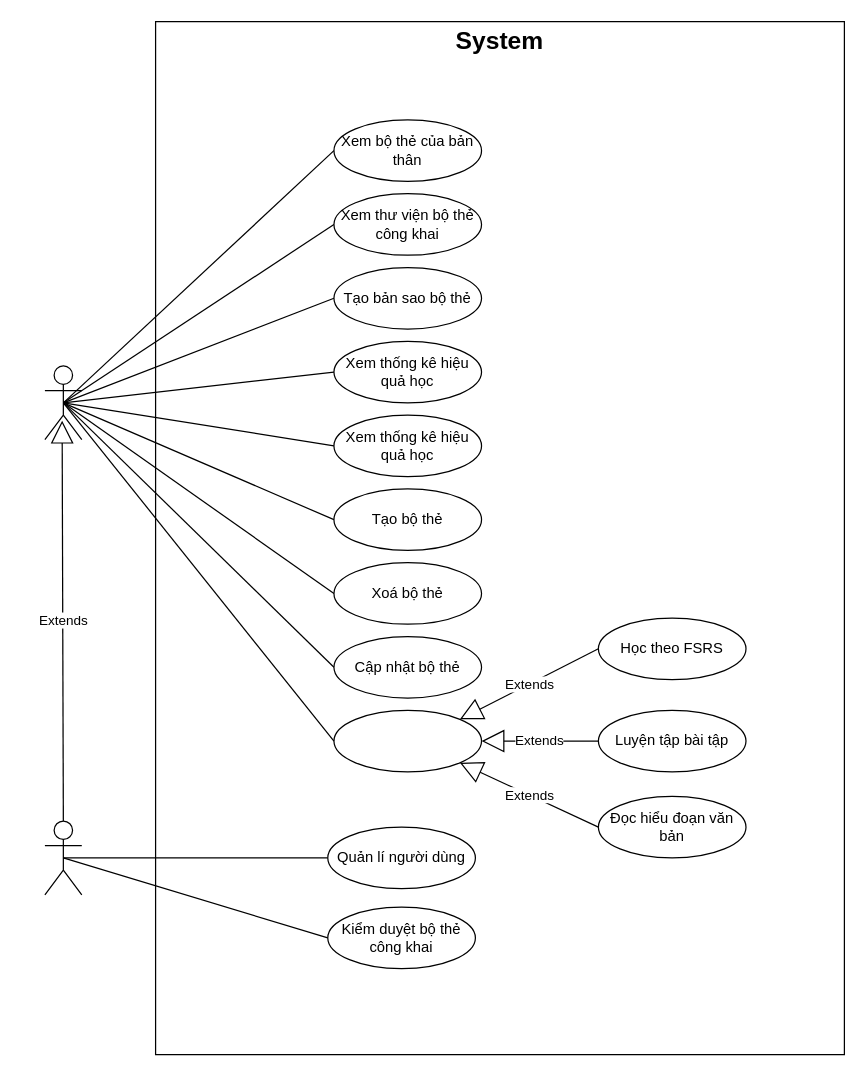
The diagram is 866 pixels wide and 1076 high, and some of its shapes have lost their labels. The shapes that lost their labels are listed below. From the top down, each one's centre as x and y in pixels, then its label:
[63,402]: Người học
[407,740]: Học theo bộ thẻ
[63,857]: Quản trị viên
